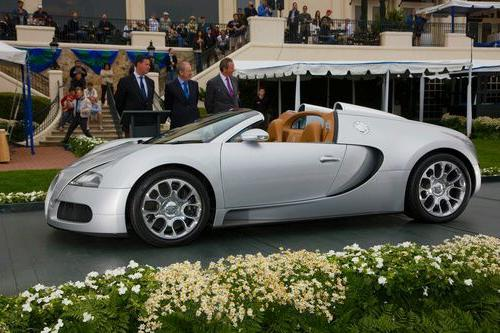Car: (39, 89, 497, 263)
